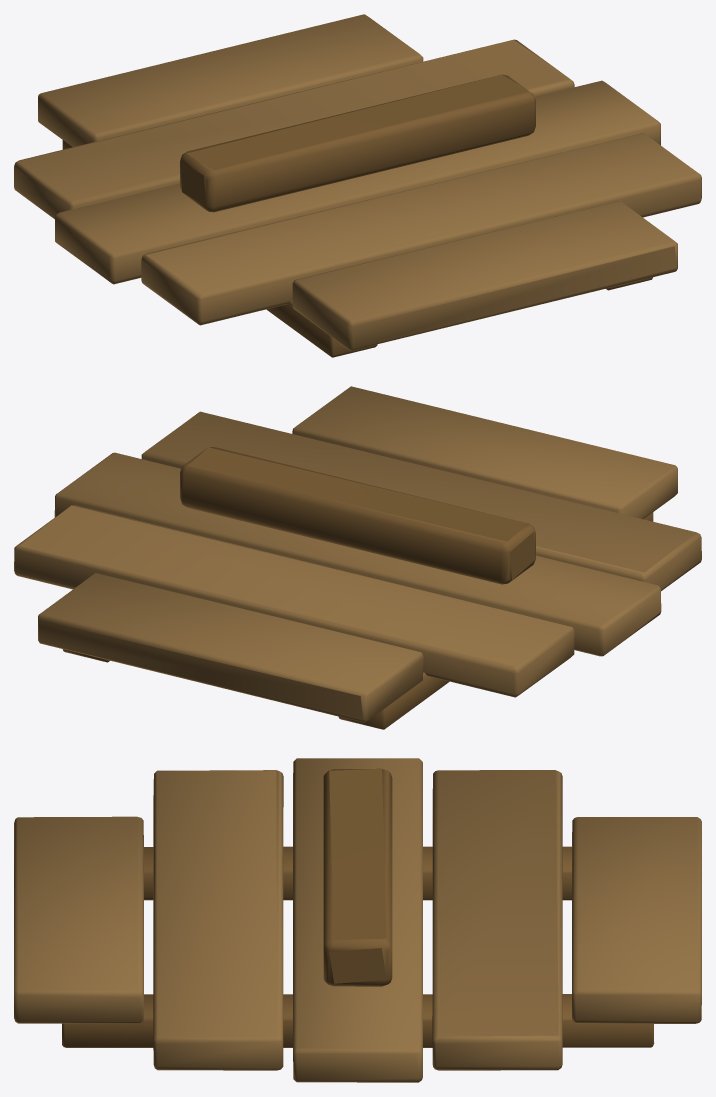
Rendered from nap_lu.glb.
3 renders of one model, top to bottom at view 1: azimuth 30°, elevation 25°; view 2: azimuth 150°, elevation 25°; view 3: azimuth 270°, elevation 25°, orthographic. The views are drawn at different scales.
Visible parts, largest first — view 1: nap_lu; view 2: nap_lu; view 3: nap_lu.
Boxes of the visible parts, <box> form: nap_lu: <box>14,14,701,357</box>; nap_lu: <box>14,386,701,729</box>; nap_lu: <box>14,758,701,1082</box>.
Bounding box in the file's own units: 0.3995 × 0.0684 × 0.3945.
